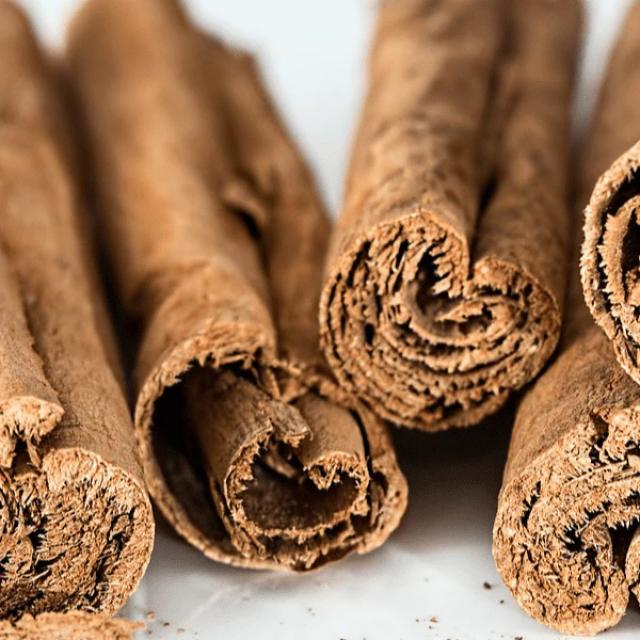Cinnamon: (68, 0, 408, 569), (320, 0, 582, 431), (0, 1, 154, 618), (494, 326, 640, 633), (580, 140, 640, 383), (0, 249, 64, 468)
